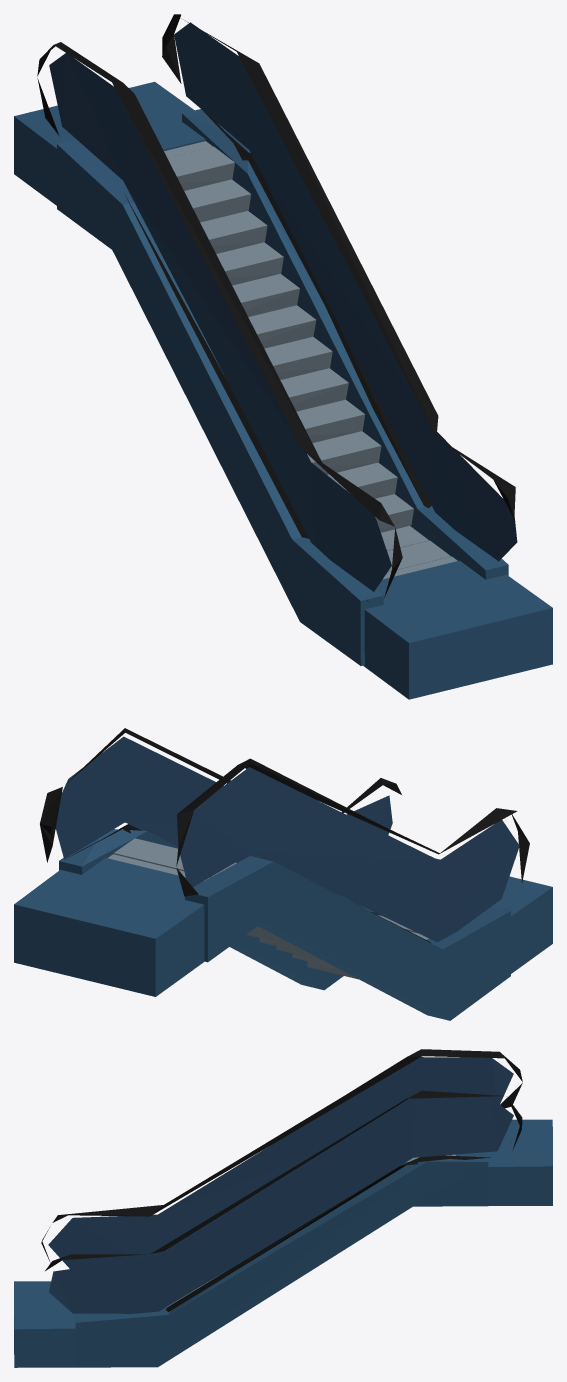
Rendered from escalator.lod2.glb.
3 views of the same model, one above another, from view 1: azimuth 30°, elevation 25°; view 2: azimuth 150°, elevation 25°; view 3: azimuth 270°, elevation 25° (orthographic). The views are drawn at different scales.
Visible parts, largest first — view 1: Object_10; view 2: Object_10; view 3: Object_10.
Boxes of the visible parts, x1,y1,x2,y2 form: Object_10: [14, 14, 552, 699]; Object_10: [14, 728, 552, 1020]; Object_10: [14, 1049, 552, 1367].
Size of the model in its own units: 2.81 by 7.18 by 12.9.
